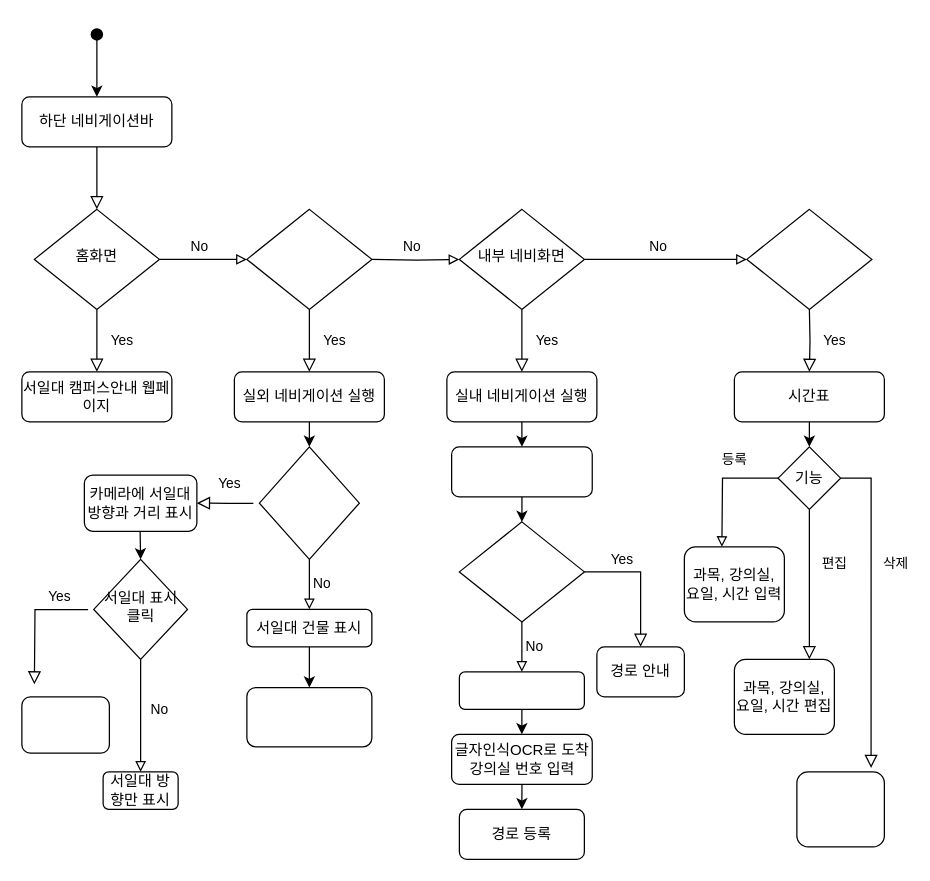
The diagram is 930 pixels wide and 881 high, and some of its shapes have lost their labels. The box of each missing label's shape, as (x1, y1, x2, y2) in pixels:
강의실 등록 되어있는지: (458, 521, 584, 622)
경로 노드 설치: (458, 671, 584, 709)
글자인식OCR로 출발 강의실 번호 입력: (450, 446, 592, 497)
서일대 까지의 경로 지도앱으로 안내: (21, 696, 109, 753)
서일대까지의 거리 > 200m: (258, 446, 359, 559)
선택시 건물 방향으로 화살표 표시: (246, 686, 372, 747)
시간표화면: (746, 208, 872, 309)
외부 네비화면: (246, 208, 372, 309)
확인 후 해당 강의 시간 삭제: (796, 771, 884, 847)
